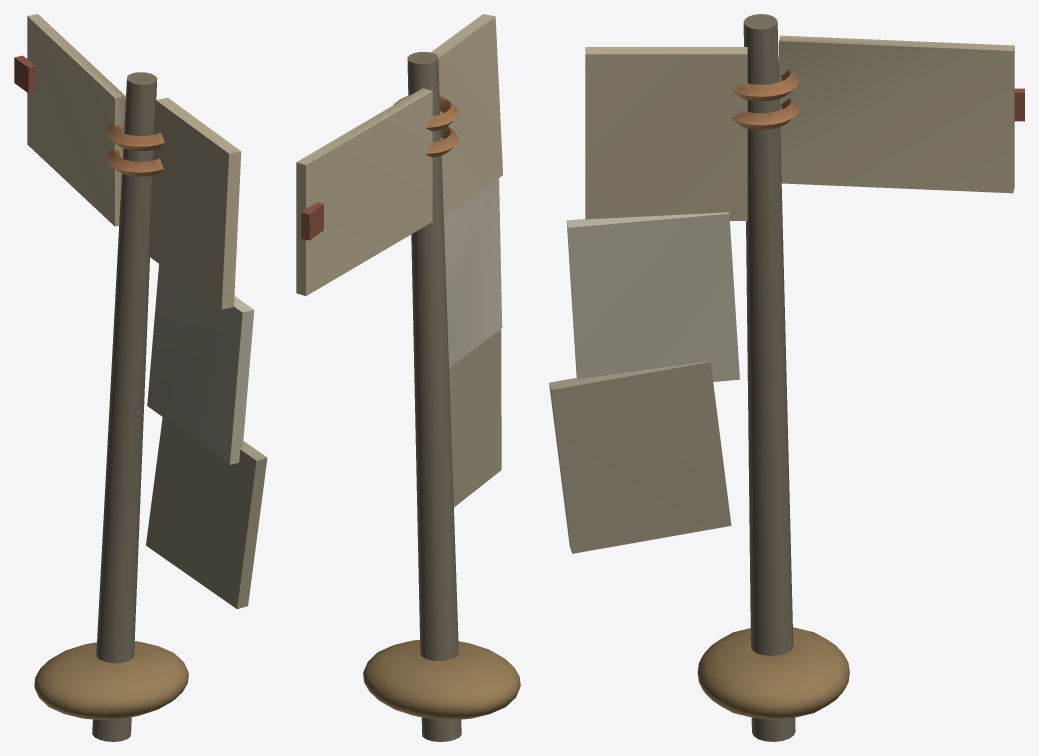
Rendered from keeper_bunting_a.glb.
3 renders of one model, left to right at view 1: azimuth 30°, elevation 25°; view 2: azimuth 150°, elevation 25°; view 3: azimuth 270°, elevation 25°, orthographic. The views are drawn at different scales.
Parts seen in each view (by area): view 1: Surface; view 2: Surface; view 3: Surface.
Part boxes in pixels (x1,y1,x2,y2): Surface: [14, 14, 267, 741]; Surface: [296, 14, 520, 741]; Surface: [549, 14, 1024, 741].
Size of the model in its own units: 0.6776 by 3.06 by 1.82.
